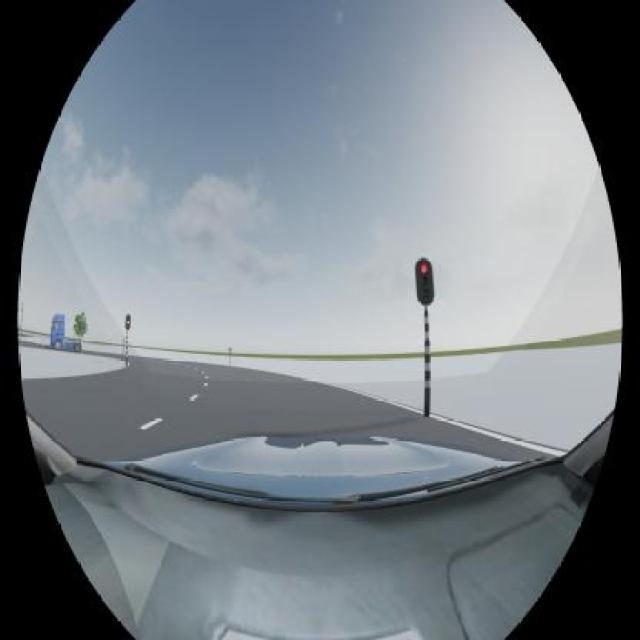forb_speed_over_80: (229, 348, 232, 352)
